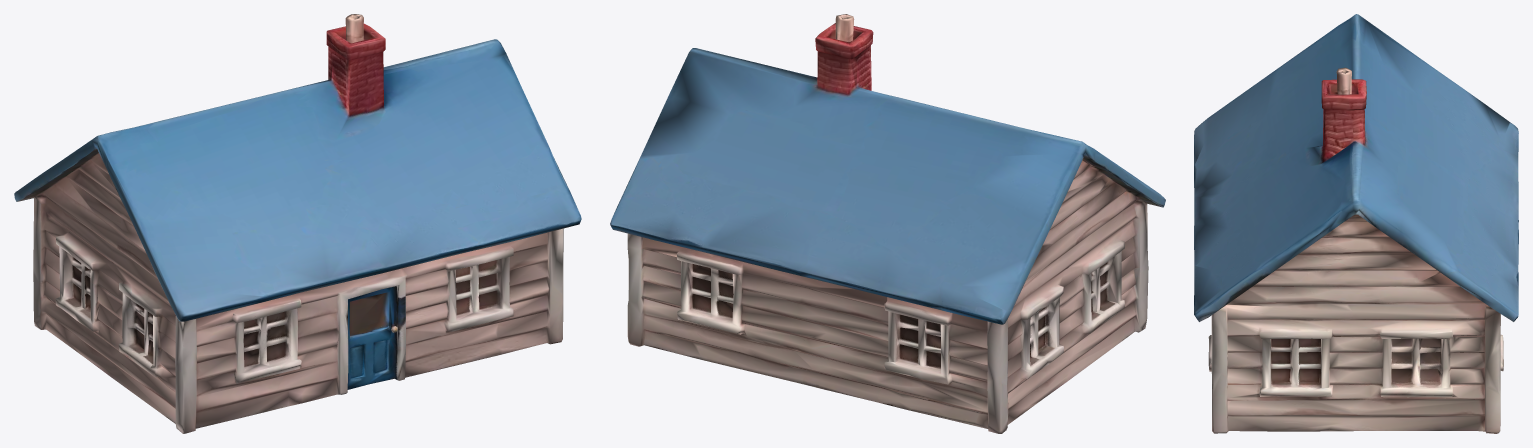
Rendered from cottage.glb.
3 renders of one model, left to right at view 1: azimuth 30°, elevation 25°; view 2: azimuth 150°, elevation 25°; view 3: azimuth 270°, elevation 25°, orthographic. The views are drawn at different scales.
Parts seen in each view (by area): view 1: tripo_node_80bcb557-b2da-43cb-a5df-4b01fbf14ccf; view 2: tripo_node_80bcb557-b2da-43cb-a5df-4b01fbf14ccf; view 3: tripo_node_80bcb557-b2da-43cb-a5df-4b01fbf14ccf.
Part boxes in pixels (x1,y1,x2,y2): tripo_node_80bcb557-b2da-43cb-a5df-4b01fbf14ccf: [14, 14, 581, 433]; tripo_node_80bcb557-b2da-43cb-a5df-4b01fbf14ccf: [610, 14, 1165, 433]; tripo_node_80bcb557-b2da-43cb-a5df-4b01fbf14ccf: [1194, 14, 1518, 433].
Bounding box in the file's own units: 0.9996 × 0.7347 × 0.7272.
1 material, 1 textured.
